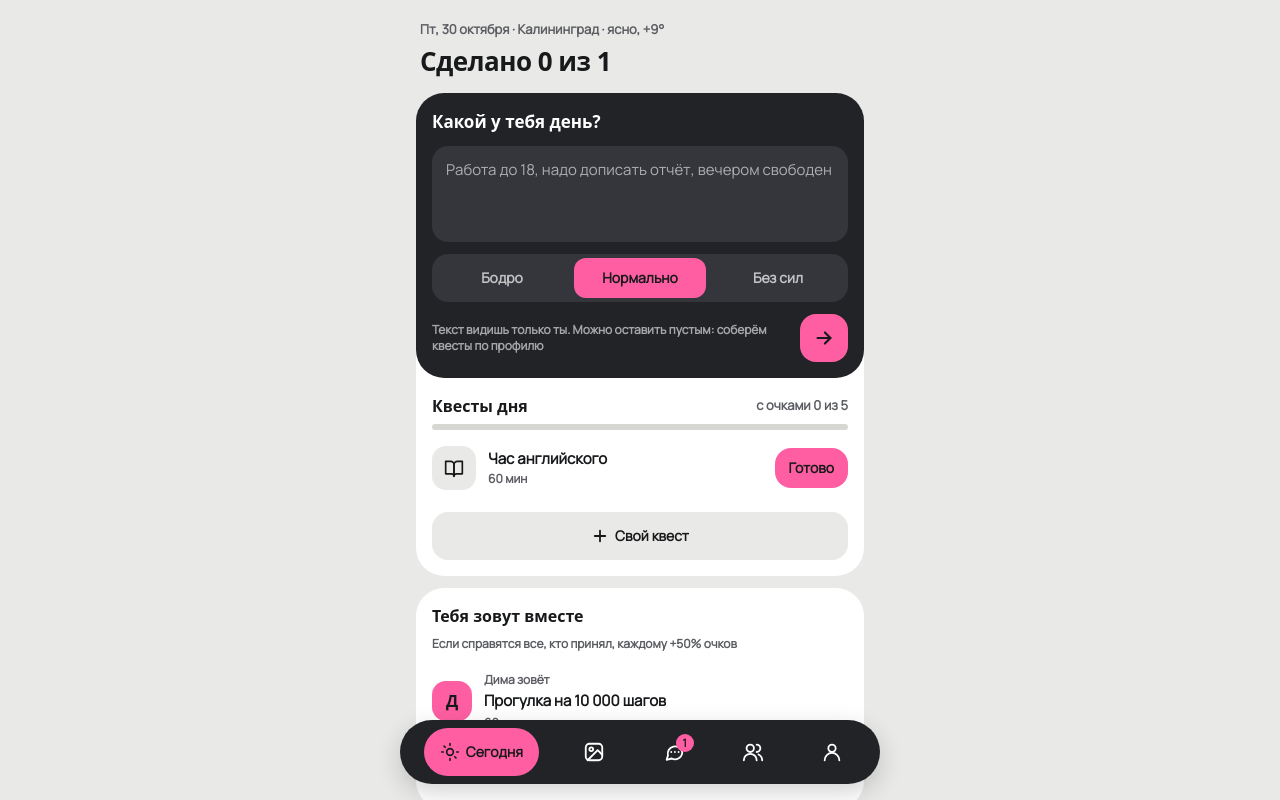
Co-op quests (US-18) › invites friends to a taken quest and shows who is in
Click the button "Час английского 60 мин".
click(548, 458)  # box [488,449,763,487]
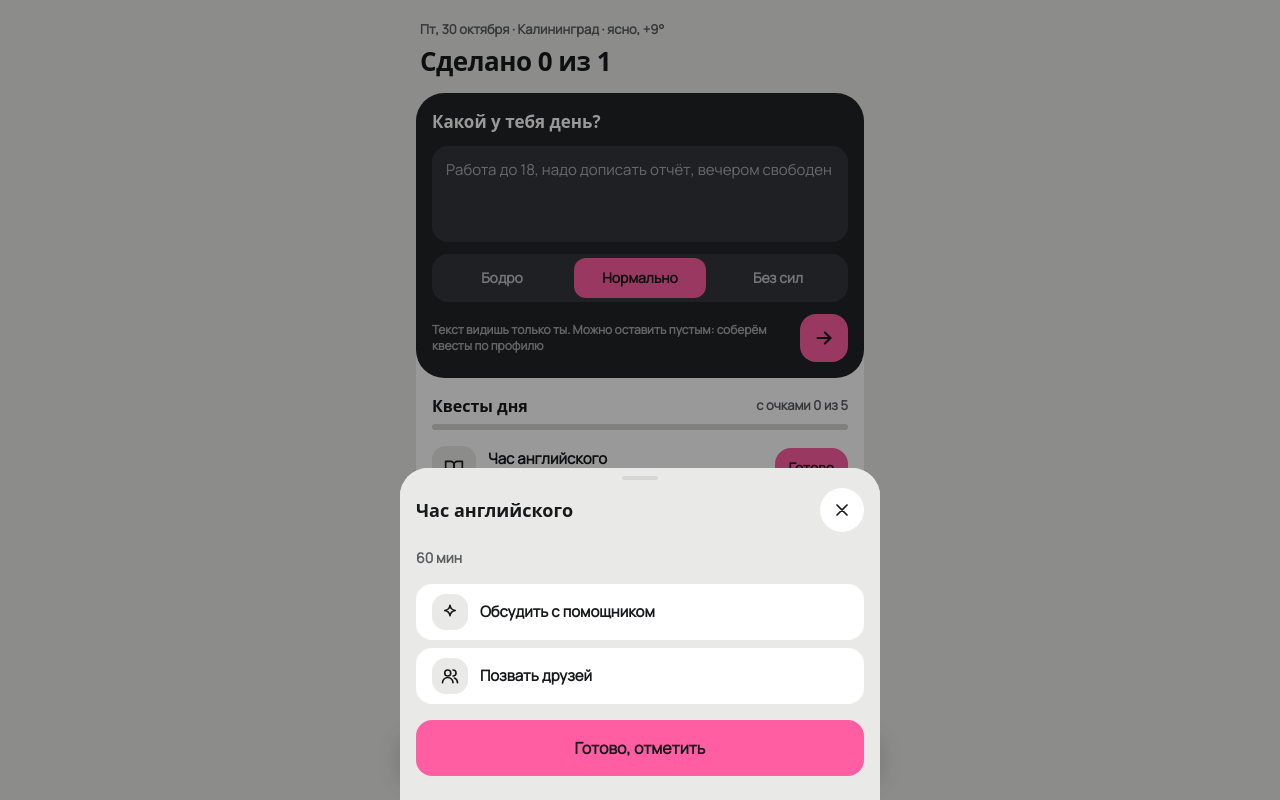
Click the button with aria-label "Позвать друзей на «Час английского»".
click(450, 676)  # box [416,648,864,704]
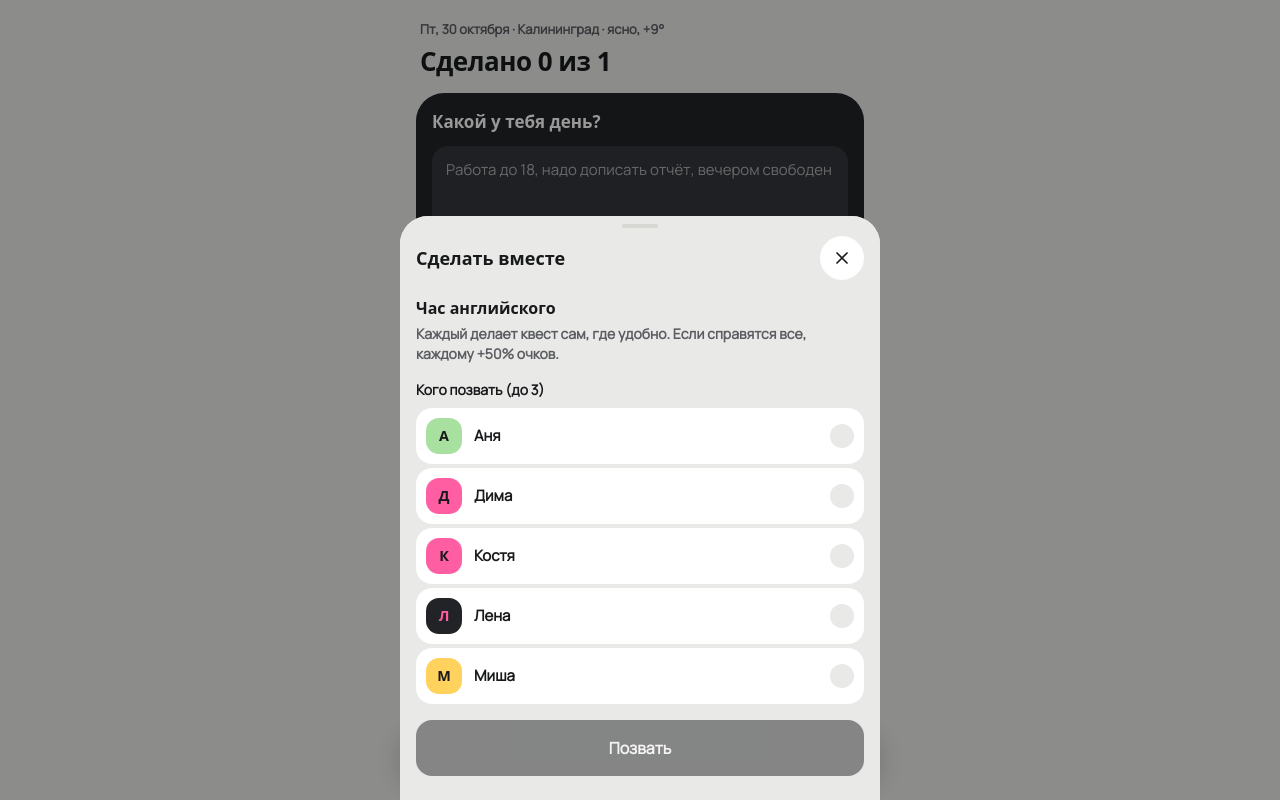
Click the text "Лена".
click(492, 615)  # box [474,605,510,626]
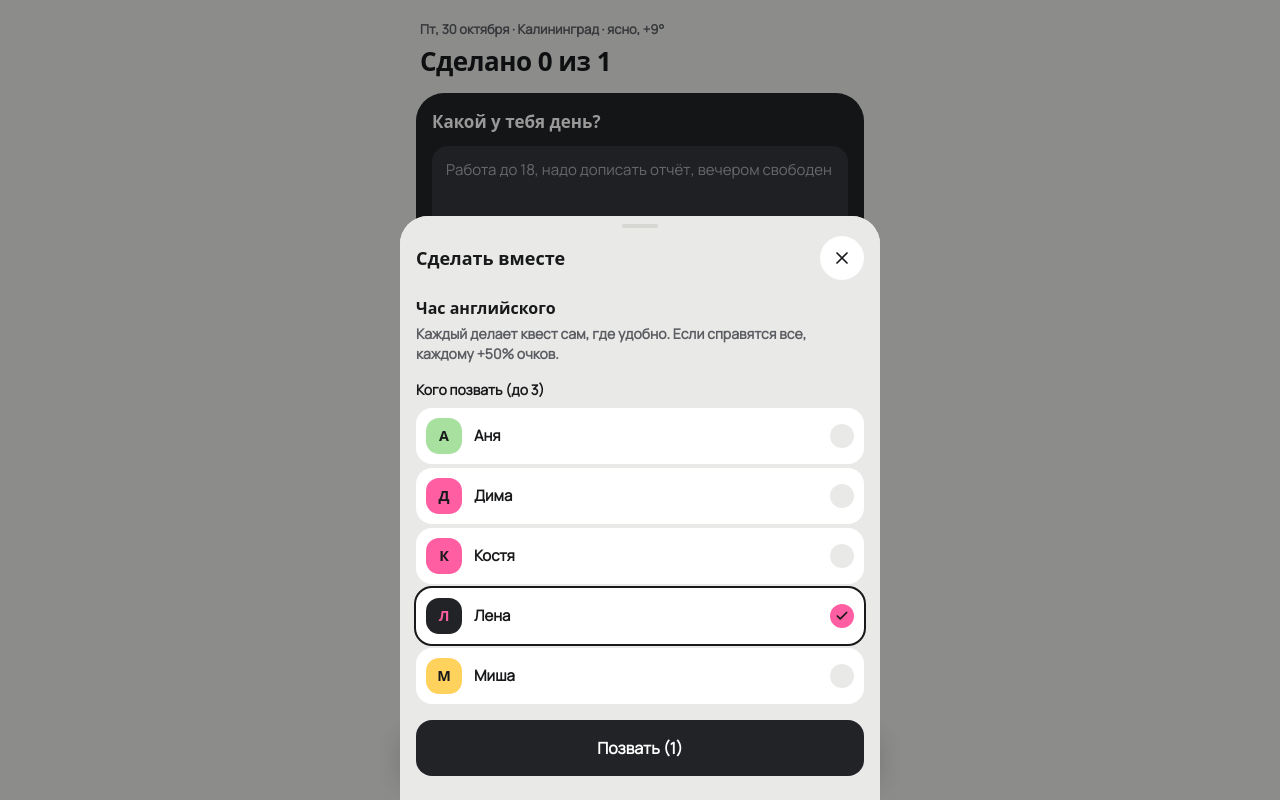
Click the text "Дима".
click(493, 495)  # box [474,485,512,506]
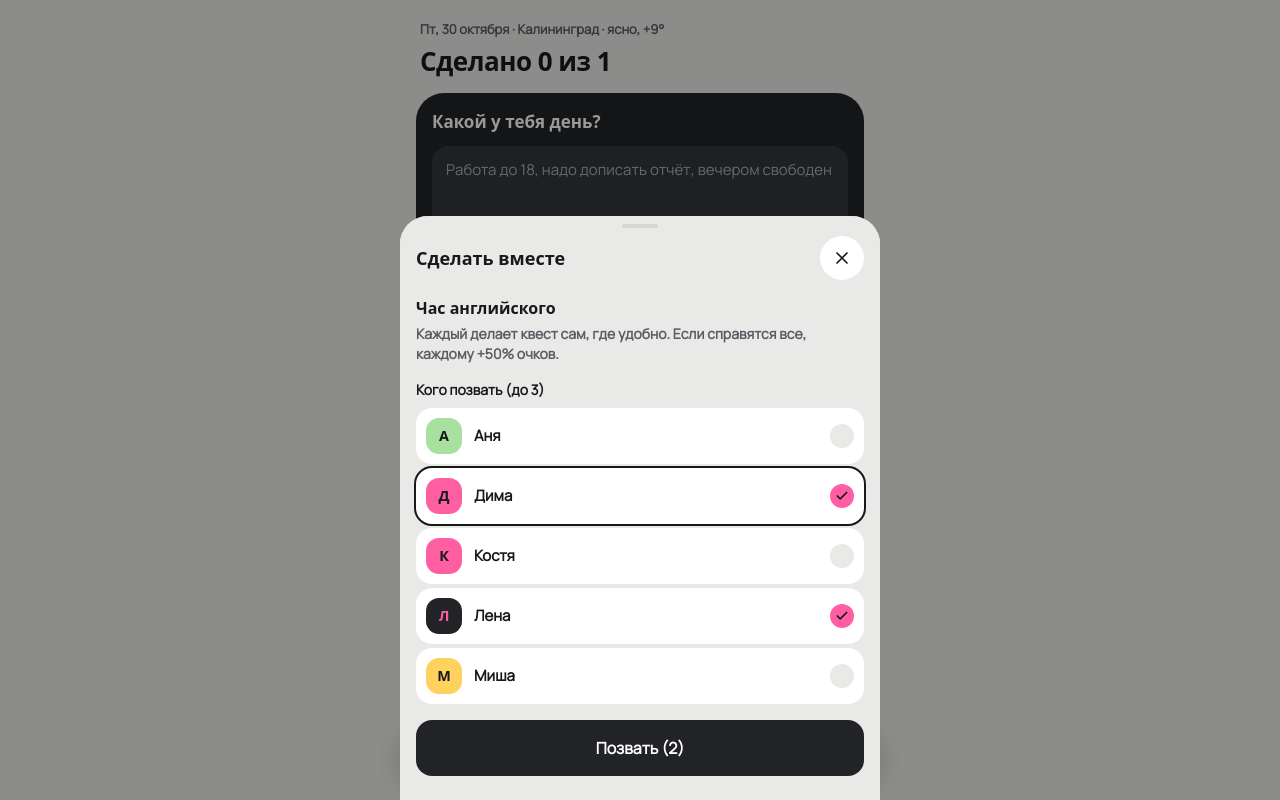
Click the button "Позвать (2)".
click(640, 748)  # box [416,720,864,776]
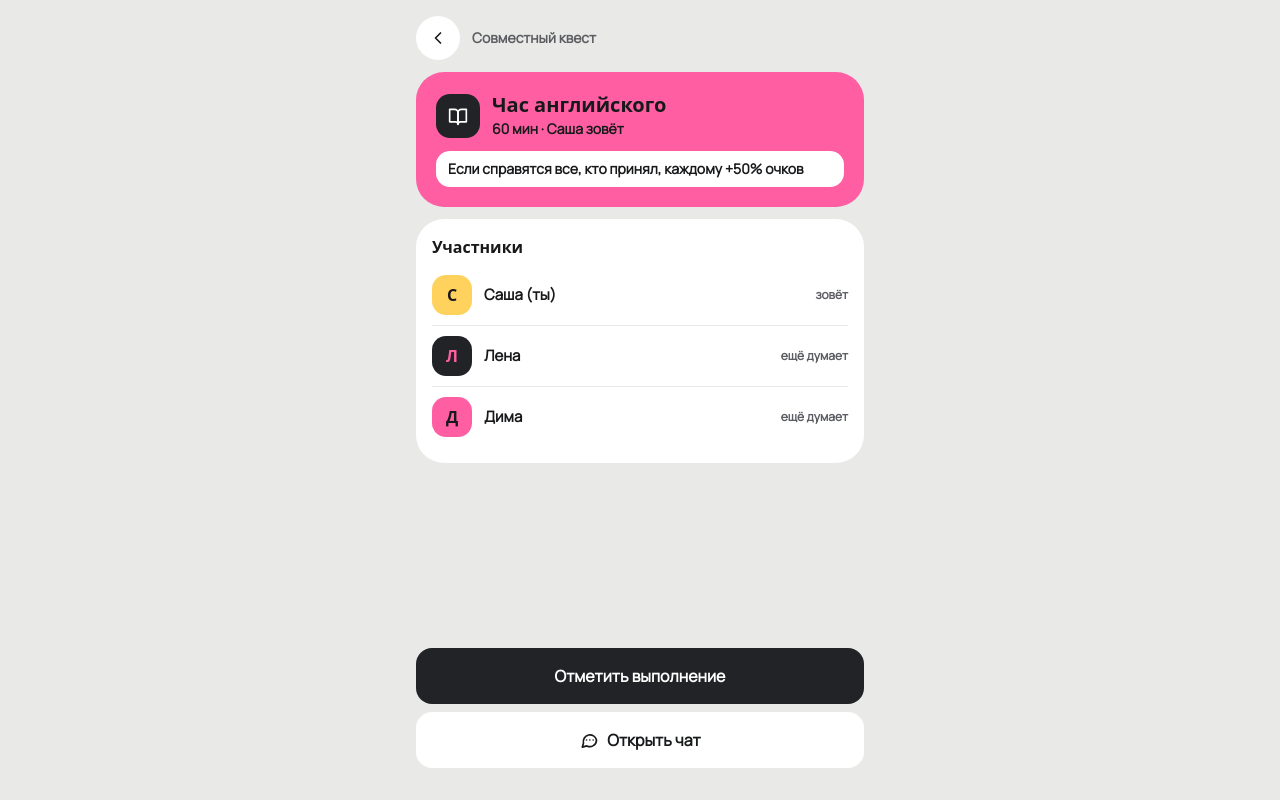
Expected: the heading "Час английского" is shown, [492,92,666,117]
Expected: the list items read "ССаша (ты)зовёт", "ЛЛенаещё думает", "ДДимаещё думает", in this order, [432,265,848,325]; [432,325,848,386]; [432,386,848,447]
Expected: the link "Открыть чат" is shown, [416,712,864,768]
